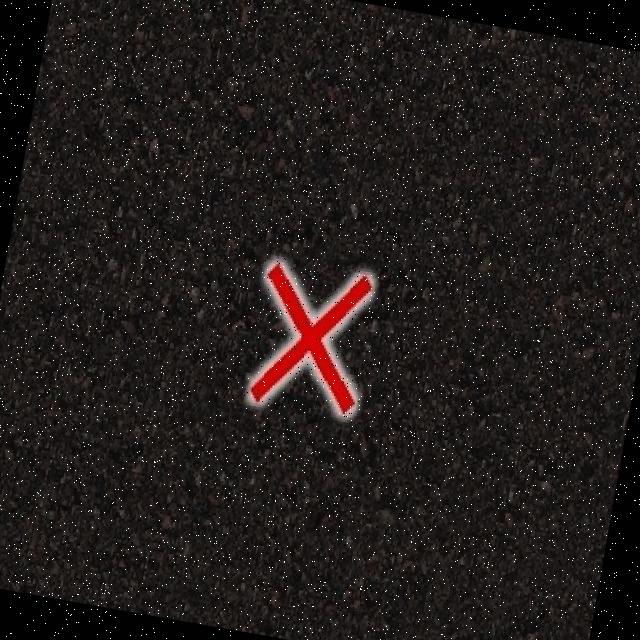x_marker: (244, 258, 376, 416)
